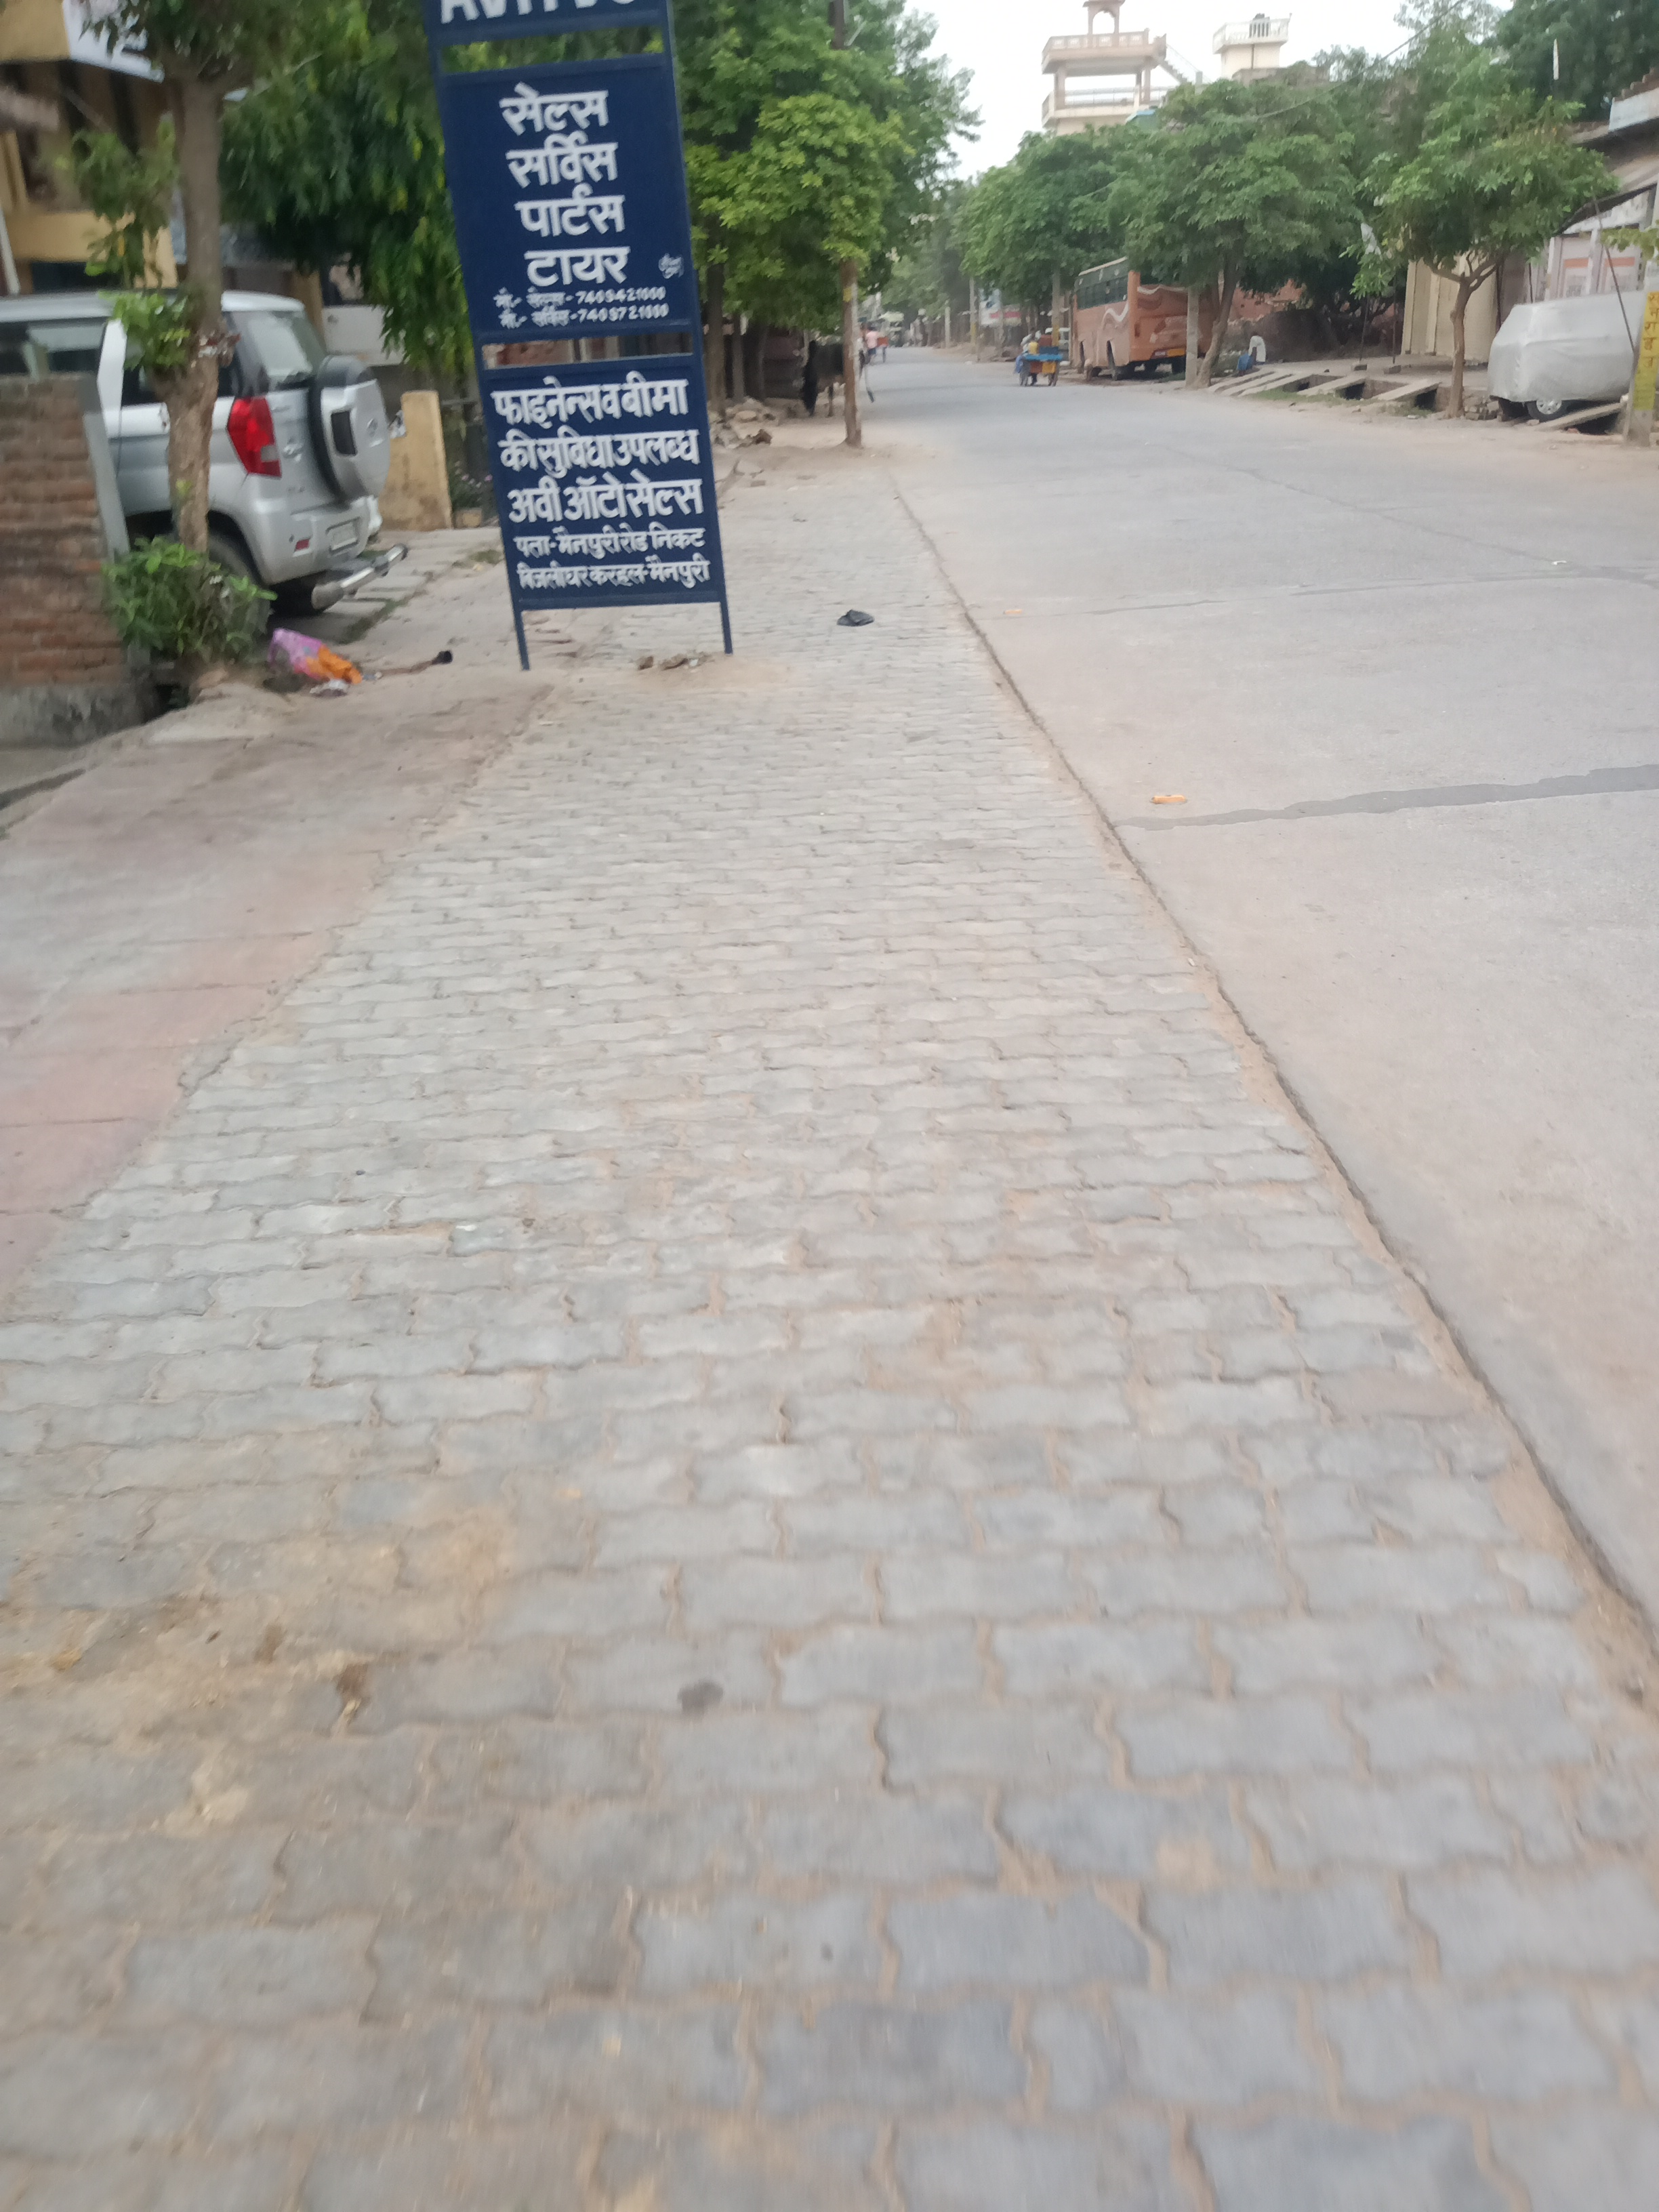text: (425, 0, 749, 610)
